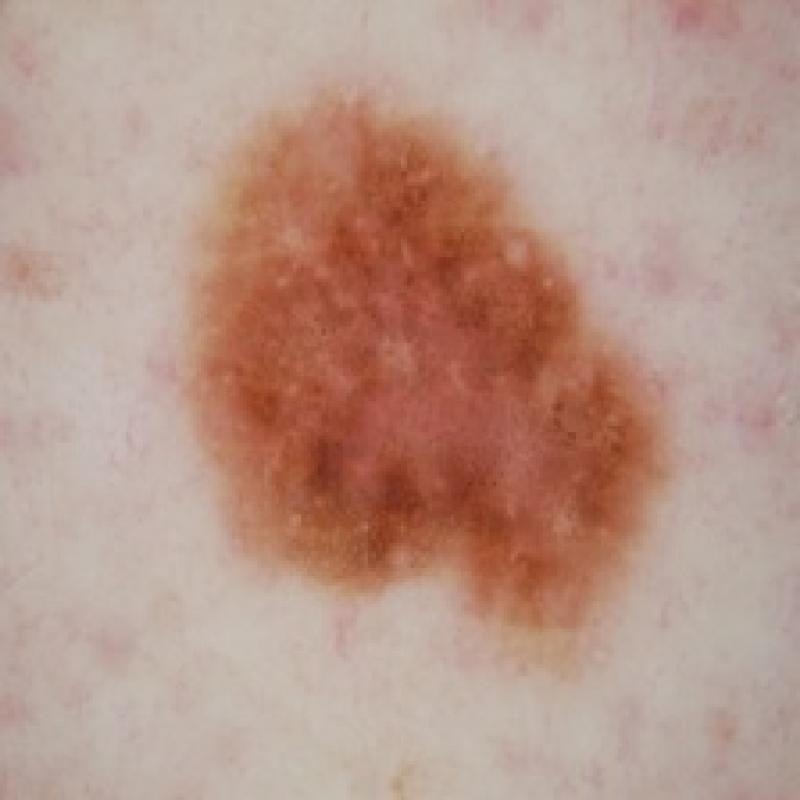malignant: (151, 64, 668, 668)
